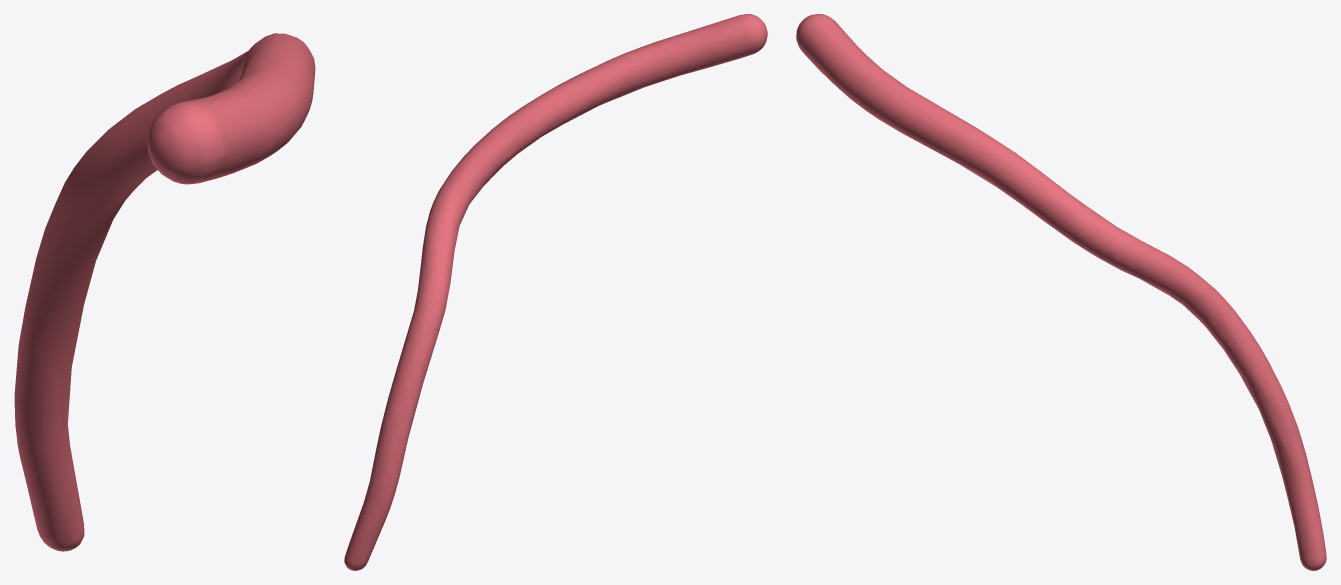
The model's file is fma3895_fj2649.glb.
The picture shows the model from 3 angles, left to right: view 1: azimuth 30°, elevation 25°; view 2: azimuth 150°, elevation 25°; view 3: azimuth 270°, elevation 25°; orthographic projection. The views are drawn at different scales.
Visible parts, largest first — view 1: FMA3895_FJ2649; view 2: FMA3895_FJ2649; view 3: FMA3895_FJ2649.
Part boxes in pixels (x1=…): FMA3895_FJ2649: x1=14, y1=33, x2=315, y2=551; FMA3895_FJ2649: x1=344, y1=14, x2=767, y2=570; FMA3895_FJ2649: x1=796, y1=14, x2=1326, y2=570.
Bounding box in the file's own units: 0.0162 × 0.0339 × 0.035.
